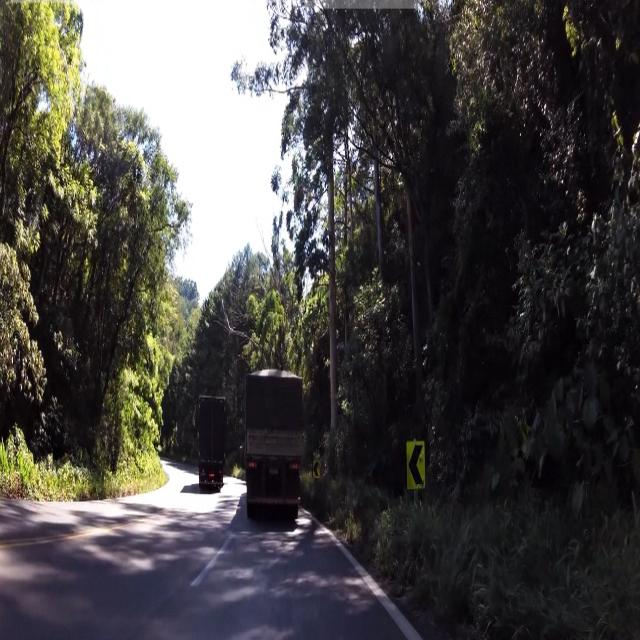Del: (406, 441, 426, 490)
